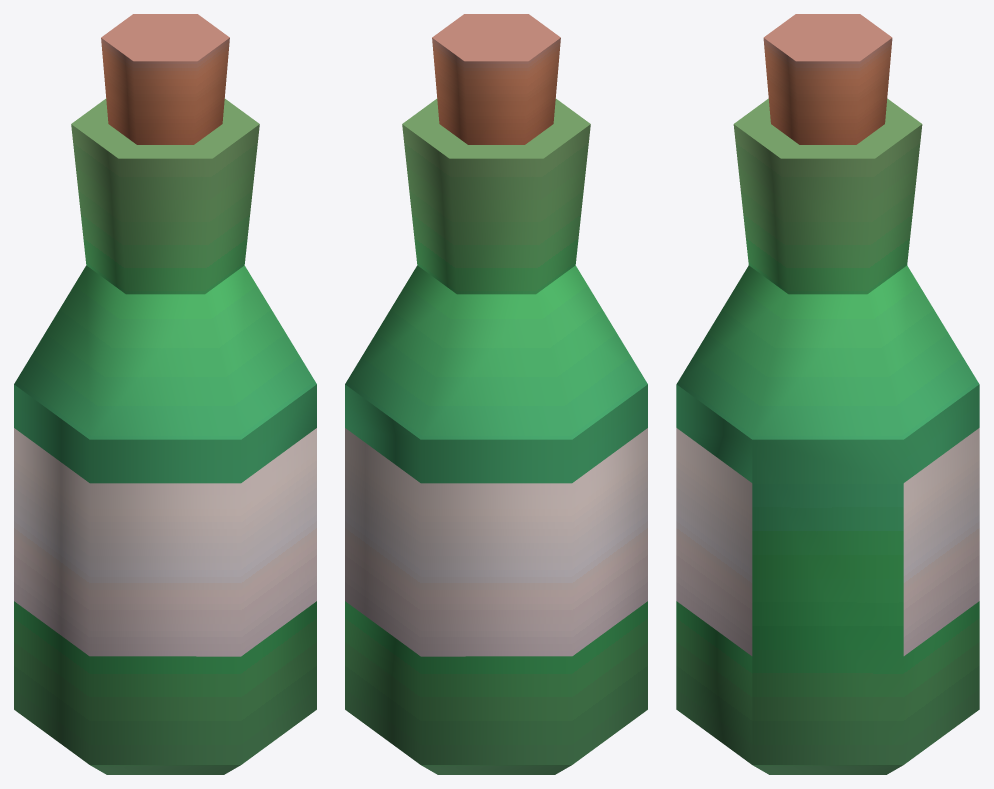
Rendered from bottle.glb.
The picture shows the model from 3 angles, left to right: view 1: azimuth 30°, elevation 25°; view 2: azimuth 150°, elevation 25°; view 3: azimuth 270°, elevation 25°; orthographic projection.
Parts seen in each view (by area): view 1: bottle; view 2: bottle; view 3: bottle.
Part boxes in pixels (left/top/right/bottom): bottle: left=14, top=14, right=316, bottom=774; bottle: left=345, top=14, right=647, bottom=774; bottle: left=676, top=14, right=979, bottom=774.
Size of the model in its own units: 0.0527 by 0.1539 by 0.0608.
1 material, 1 textured.
